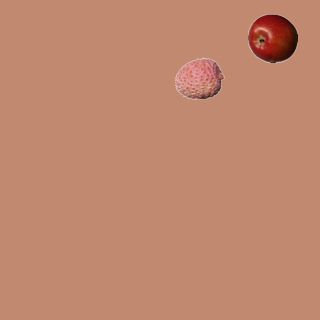Apple Braeburn: (247, 13, 297, 63)
Lychee: (174, 53, 224, 103)
